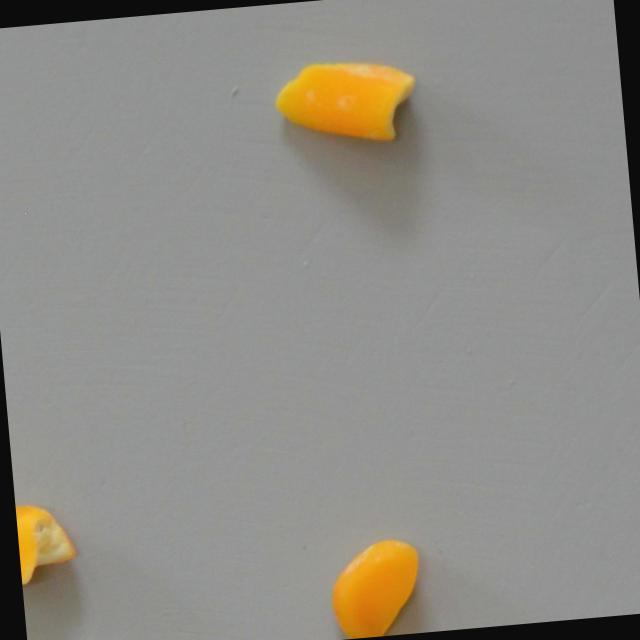dañado: (325, 534, 427, 640)
pelicula: (268, 48, 420, 152)
punto_negro: (15, 499, 82, 588)
